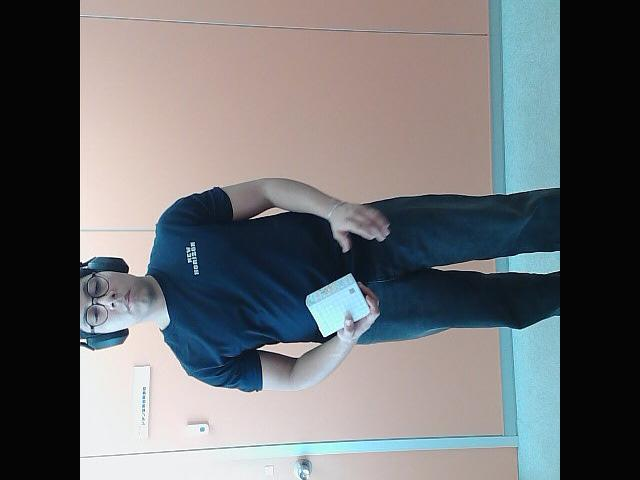Blind_box: (302, 262, 374, 340)
